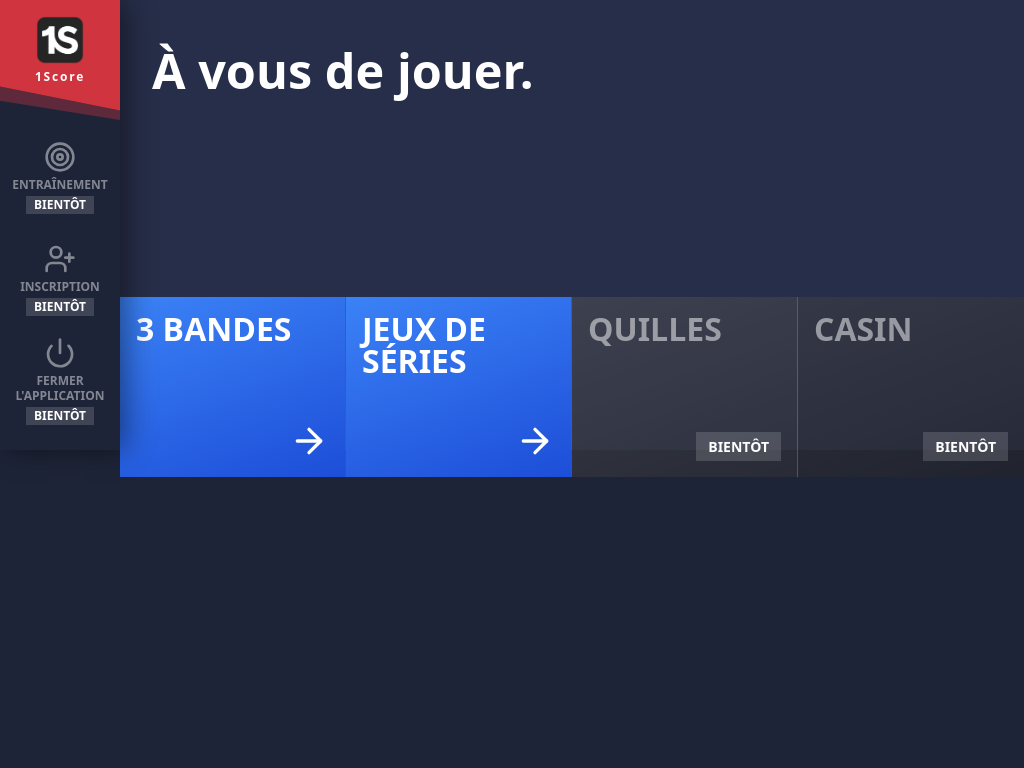
Test case: HomeScreen › opens the frame choice as a list prompt holding 47/2, 47/1, 71/2 then ANNULER
Press the mouse on the button with test id "category-series": (459, 387) x1=346 y1=297 x2=572 y2=477
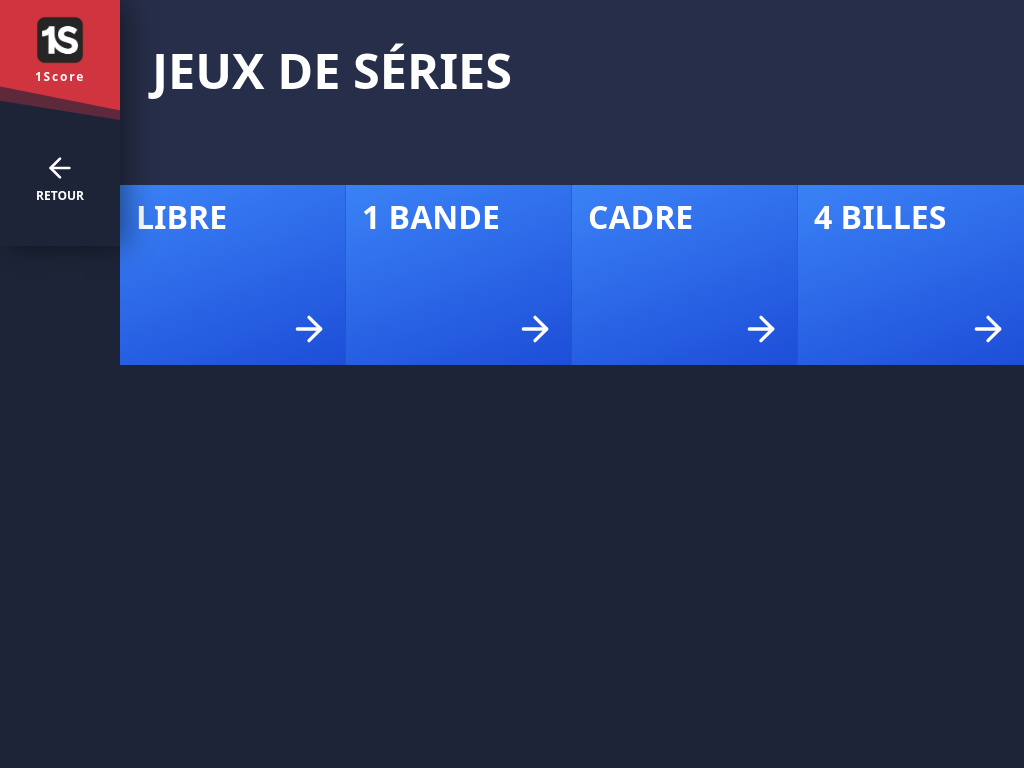
Press the mouse on the button with test id "mode-cadre": (685, 275) x1=572 y1=185 x2=798 y2=365
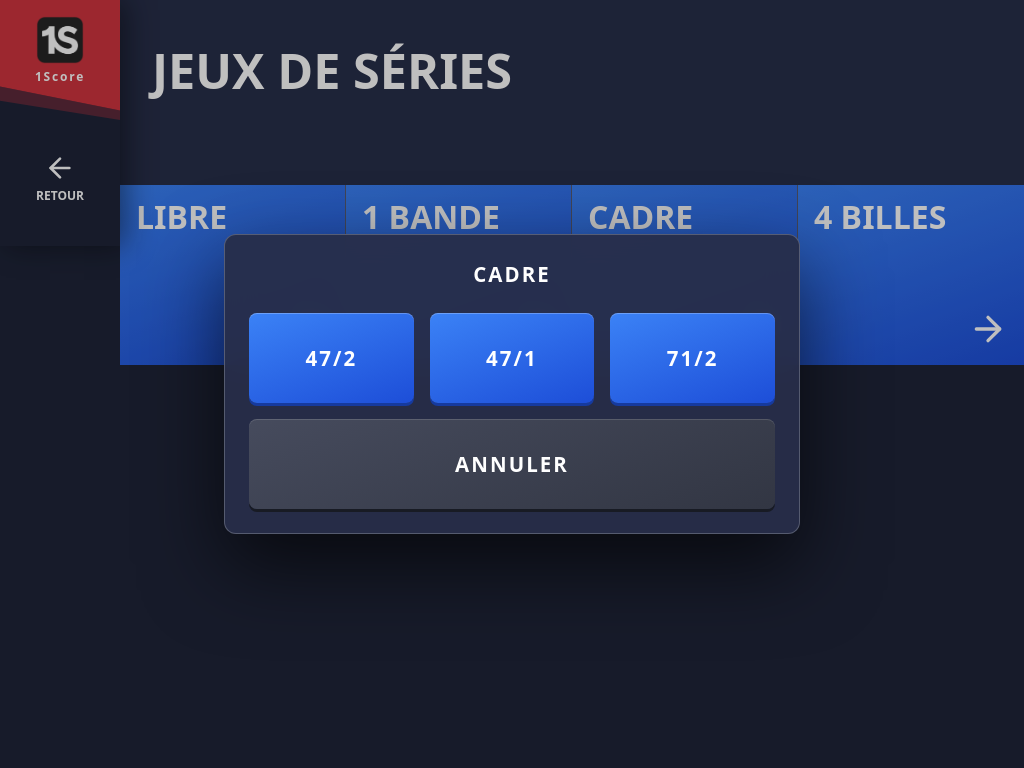
Expected: the heading with test id "prompt-title" reads "CADRE", x1=473 y1=260 x2=551 y2=288
Expected: the elements with test id "prompt-action-" read "47/2", "47/1", "71/2", in this order, x1=249 y1=313 x2=414 y2=403; x1=430 y1=313 x2=594 y2=403; x1=610 y1=313 x2=775 y2=403
Expected: the button with test id "prompt-secondary" reads "ANNULER", x1=249 y1=419 x2=775 y2=509
